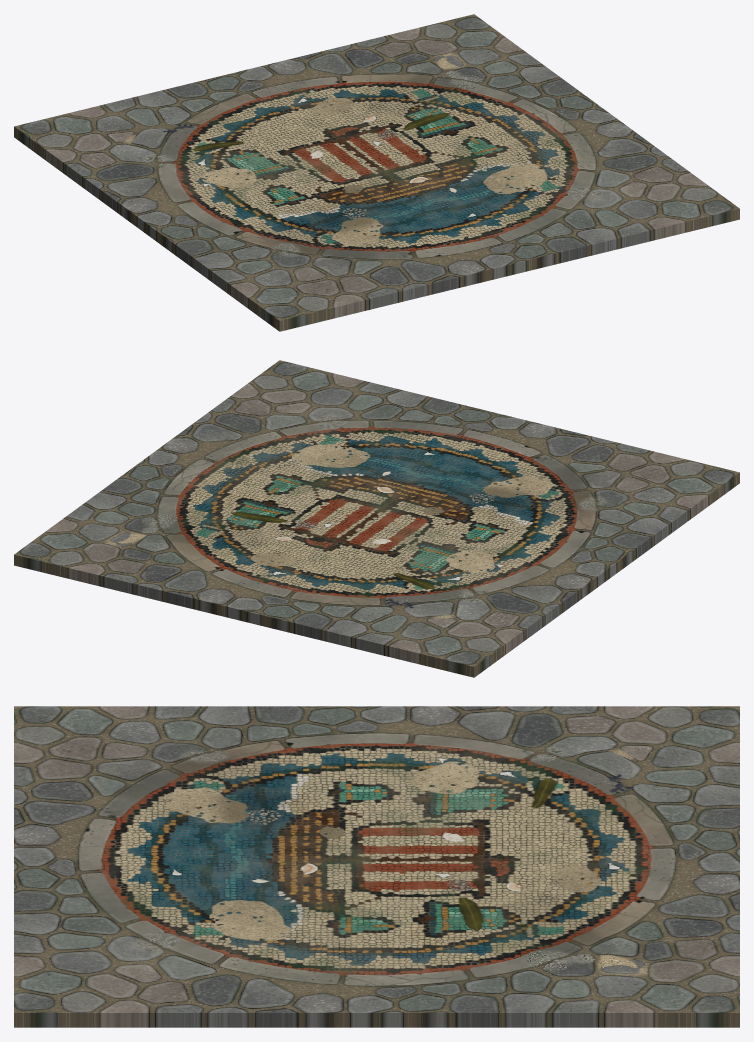
File: drowned_floor_c.glb
3 renders of one model, top to bottom at view 1: azimuth 30°, elevation 25°; view 2: azimuth 150°, elevation 25°; view 3: azimuth 270°, elevation 25°, orthographic. The views are drawn at different scales.
Parts seen in each view (by area): view 1: drowned_floor_c; view 2: drowned_floor_c; view 3: drowned_floor_c.
Boxes of the visible parts, x1=… form: drowned_floor_c: x1=14, y1=14, x2=739, y2=331; drowned_floor_c: x1=14, y1=360, x2=739, y2=677; drowned_floor_c: x1=14, y1=706, x2=739, y2=1027.
Size of the model in its own units: 4 by 0.1156 by 4.
Materials: 1 (1 with a texture image).
